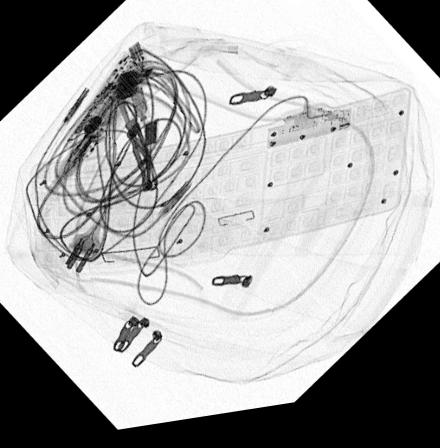Knife: (114, 77, 153, 196)
